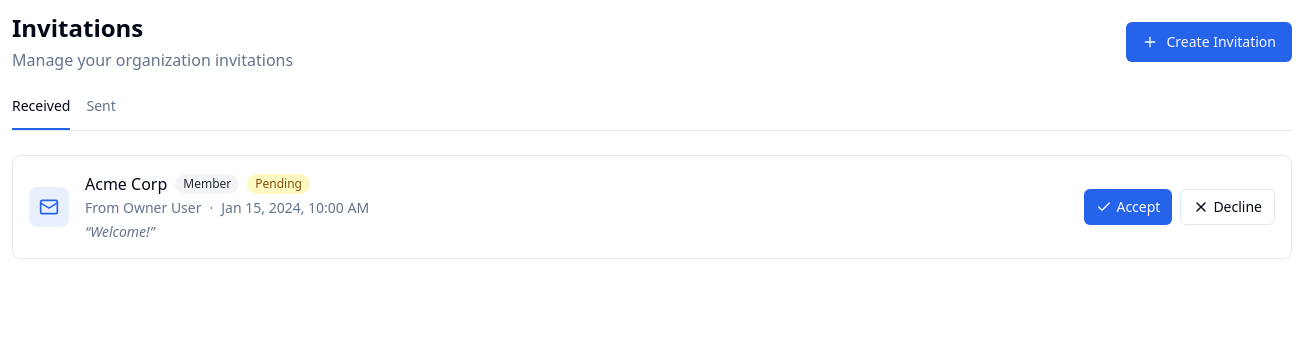
Test: InvitationsPage › should show empty state for sent invitations
The width and height of the screenshot is (1304, 363).
Click the tab "Sent". click: coordinates (101, 113)
box: [86, 96, 116, 130]
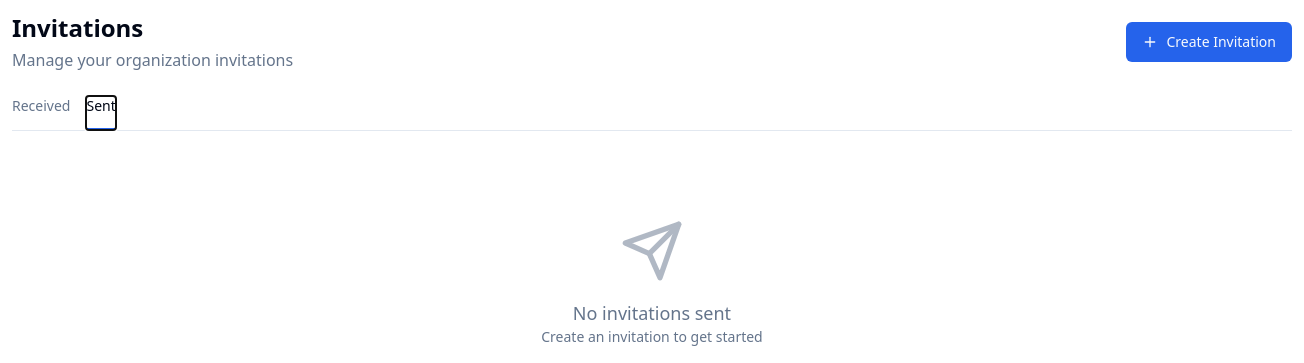
Check: the text "No invitations sent" is shown, box [573, 299, 731, 327]
